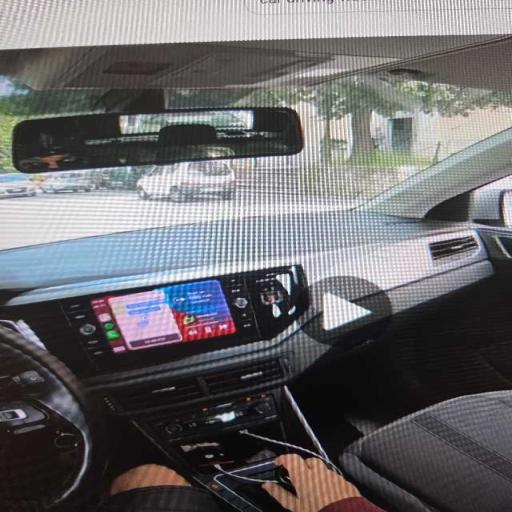car: (0, 29, 511, 511), (137, 161, 235, 202), (40, 173, 95, 193), (0, 173, 35, 198)
lane: (0, 190, 355, 249)
person: (263, 455, 382, 511)
